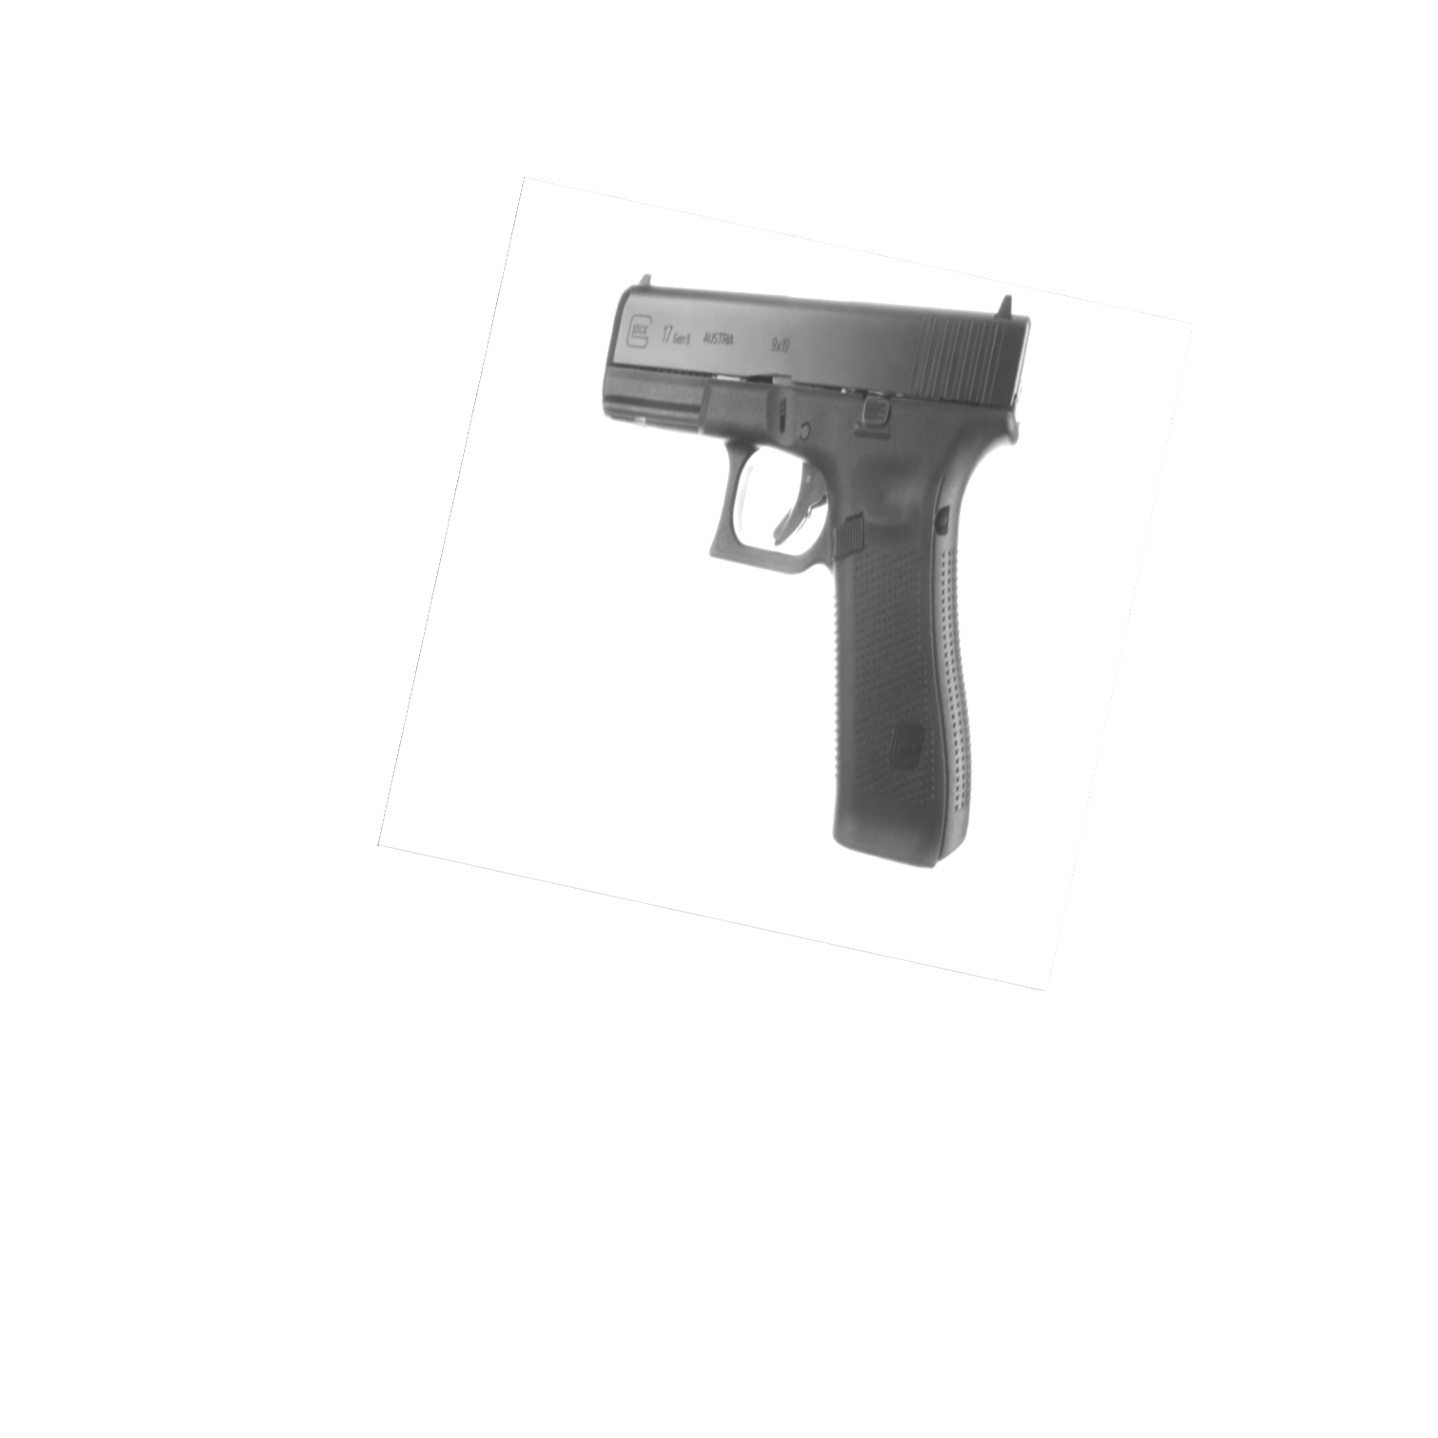gun: (597, 271, 1032, 874)
